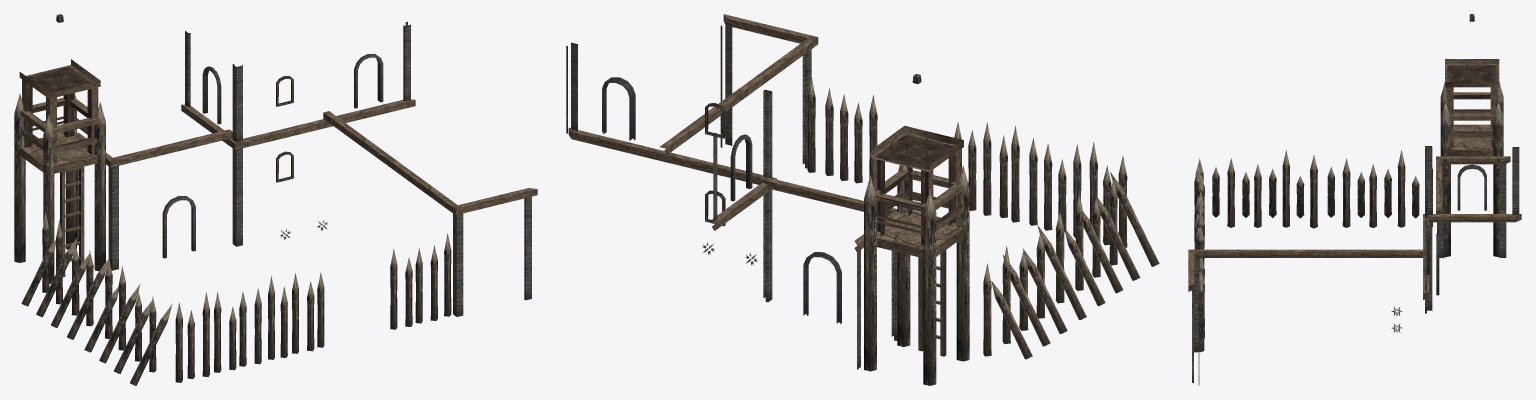
The model's file is SC_yonghengsenlin_21.FBX.
The picture shows the model from 3 angles, left to right: view 1: azimuth 30°, elevation 25°; view 2: azimuth 150°, elevation 25°; view 3: azimuth 270°, elevation 25°; orthographic projection. The views are drawn at different scales.
Visible parts, largest first — view 1: SC_yonghengsenlin_21; view 2: SC_yonghengsenlin_21; view 3: SC_yonghengsenlin_21.
Boxes of the visible parts, left/top/right/bottom form: SC_yonghengsenlin_21: left=14, top=14, right=537, bottom=385; SC_yonghengsenlin_21: left=566, top=14, right=1159, bottom=385; SC_yonghengsenlin_21: left=1188, top=14, right=1521, bottom=385.
Size of the model in its own units: 1708 by 1035 by 1350.
